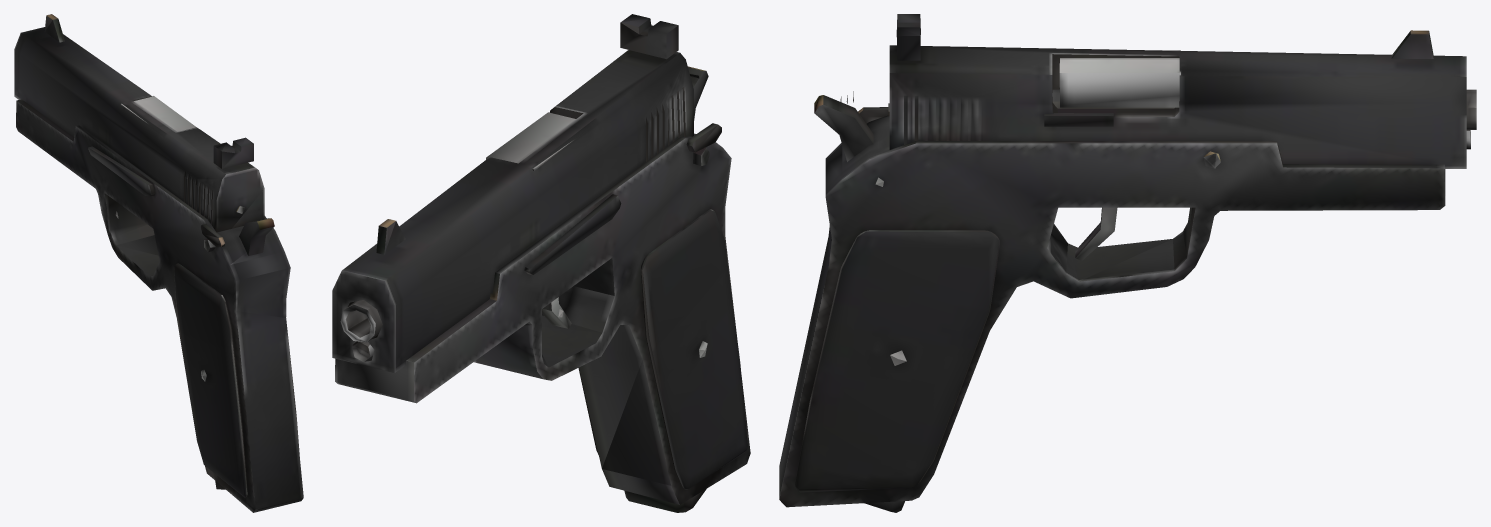
3 renders of one model, left to right at view 1: azimuth 30°, elevation 25°; view 2: azimuth 150°, elevation 25°; view 3: azimuth 270°, elevation 25°, orthographic. The views are drawn at different scales.
Parts seen in each view (by area): view 1: cr75_lod; view 2: cr75_lod; view 3: cr75_lod.
Part boxes in pixels (<box>): cr75_lod: <box>14,14,303,512</box>; cr75_lod: <box>332,14,750,512</box>; cr75_lod: <box>779,14,1476,512</box>.
Size of the model in its own units: 0.0385 by 0.1768 by 0.2358.
Materials: 1 (1 with a texture image).
